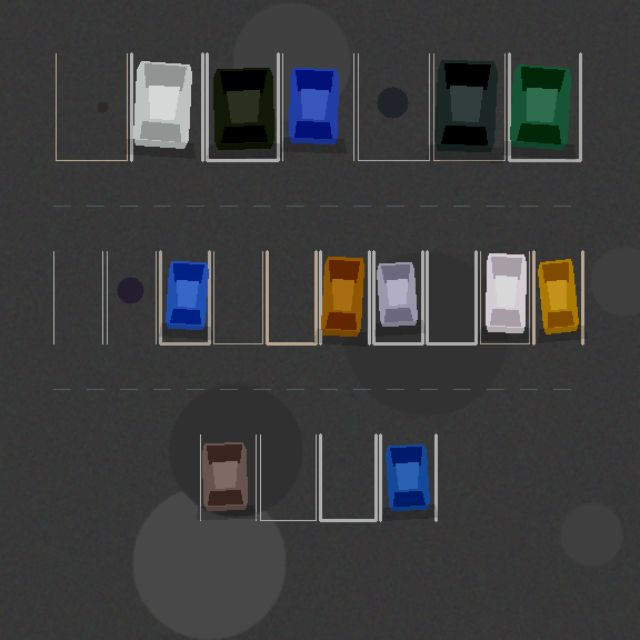space-empty: (56, 53, 127, 160), (358, 53, 429, 160), (260, 434, 316, 520), (320, 434, 376, 520), (53, 251, 102, 343), (107, 251, 156, 343), (213, 251, 262, 343), (267, 251, 316, 343), (427, 251, 476, 343)
space-occupied: (131, 53, 202, 160), (207, 53, 278, 160), (282, 53, 353, 160), (433, 53, 504, 160), (509, 53, 580, 160), (200, 434, 256, 520), (380, 434, 436, 520), (160, 251, 209, 343), (320, 251, 369, 343), (373, 251, 422, 343), (480, 251, 529, 343), (533, 251, 582, 343)
